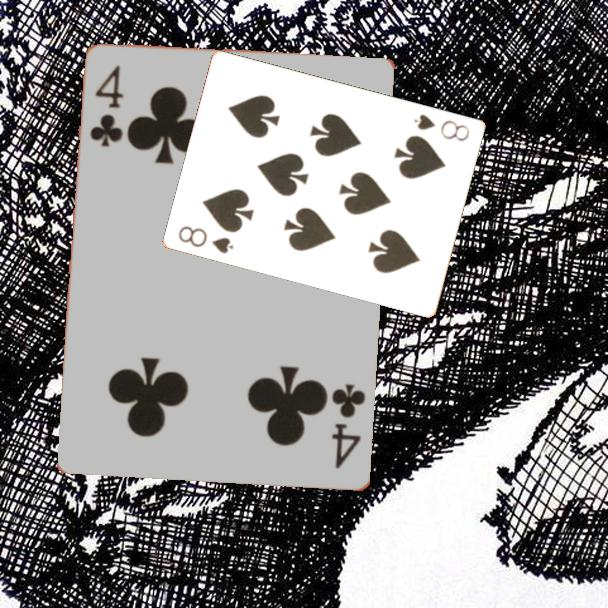c04: (328, 380, 369, 472), (87, 62, 126, 150)
s08: (175, 222, 236, 256), (411, 111, 473, 144)
